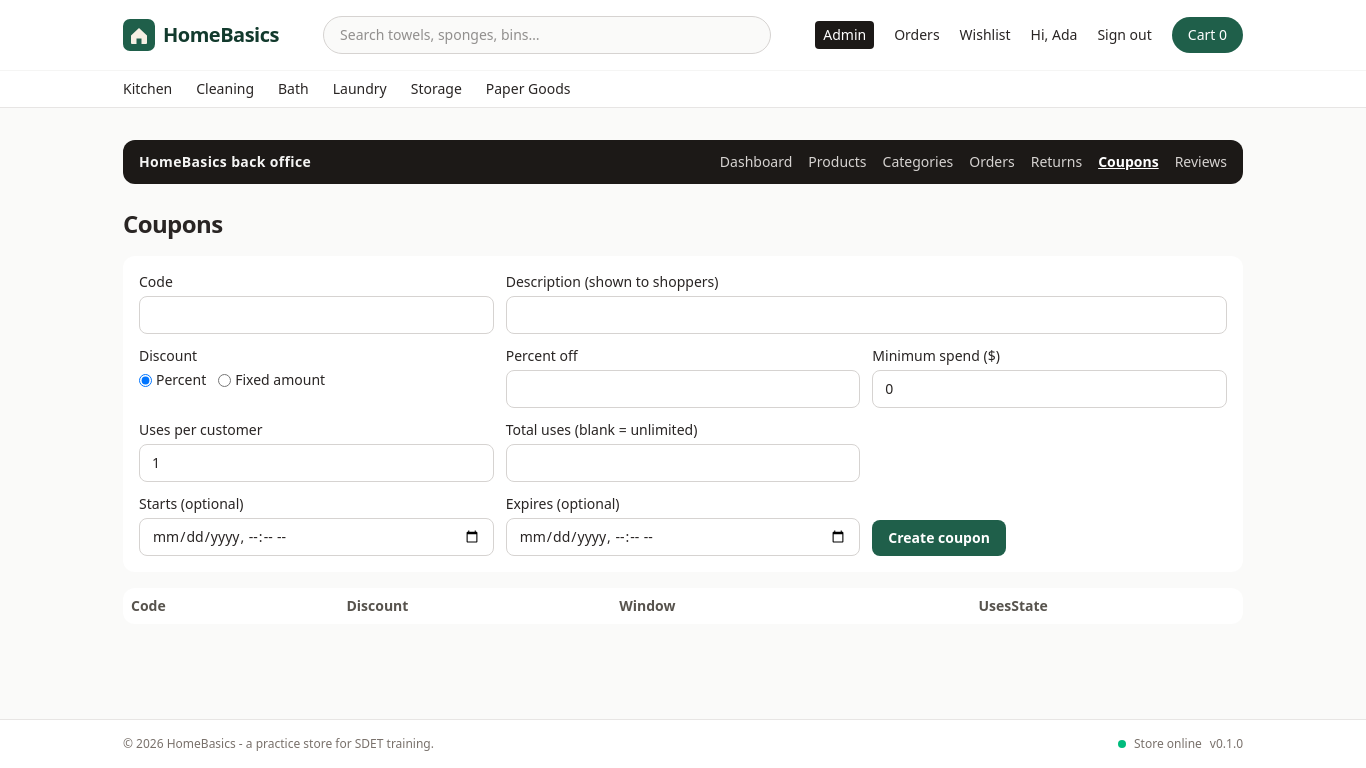
Test case: admin coupons (ADM-05) › creates a fixed coupon: dollars become cents, local times become UTC
Step 1. Type "tenoff" into the field with test id "coupon-code" → (316, 315), box [139,296,494,334]
Step 2. Click the radio button with test id "coupon-kind-fixed" → (225, 380), box [218,374,231,386]
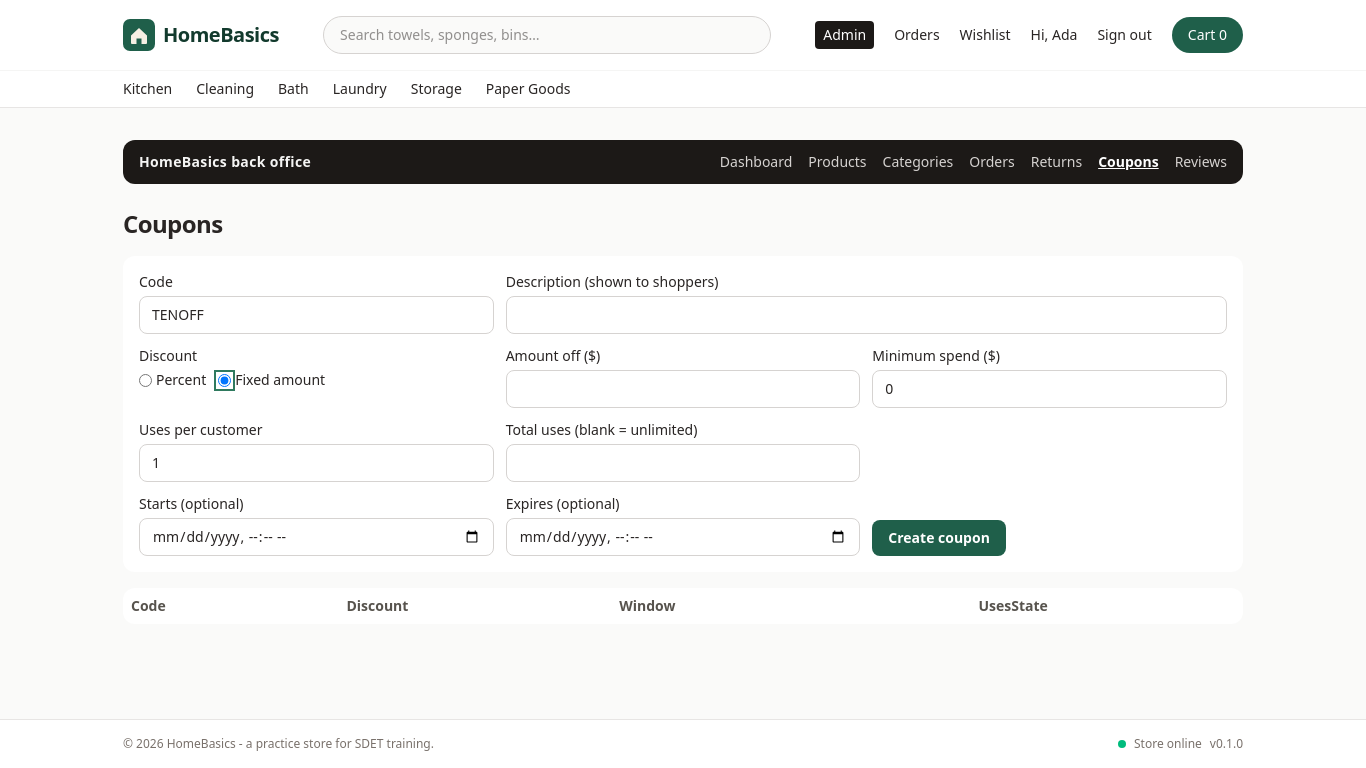
Step 3. Type "10.50" into the number field with test id "coupon-amount" → (683, 389), box [506,370,860,408]
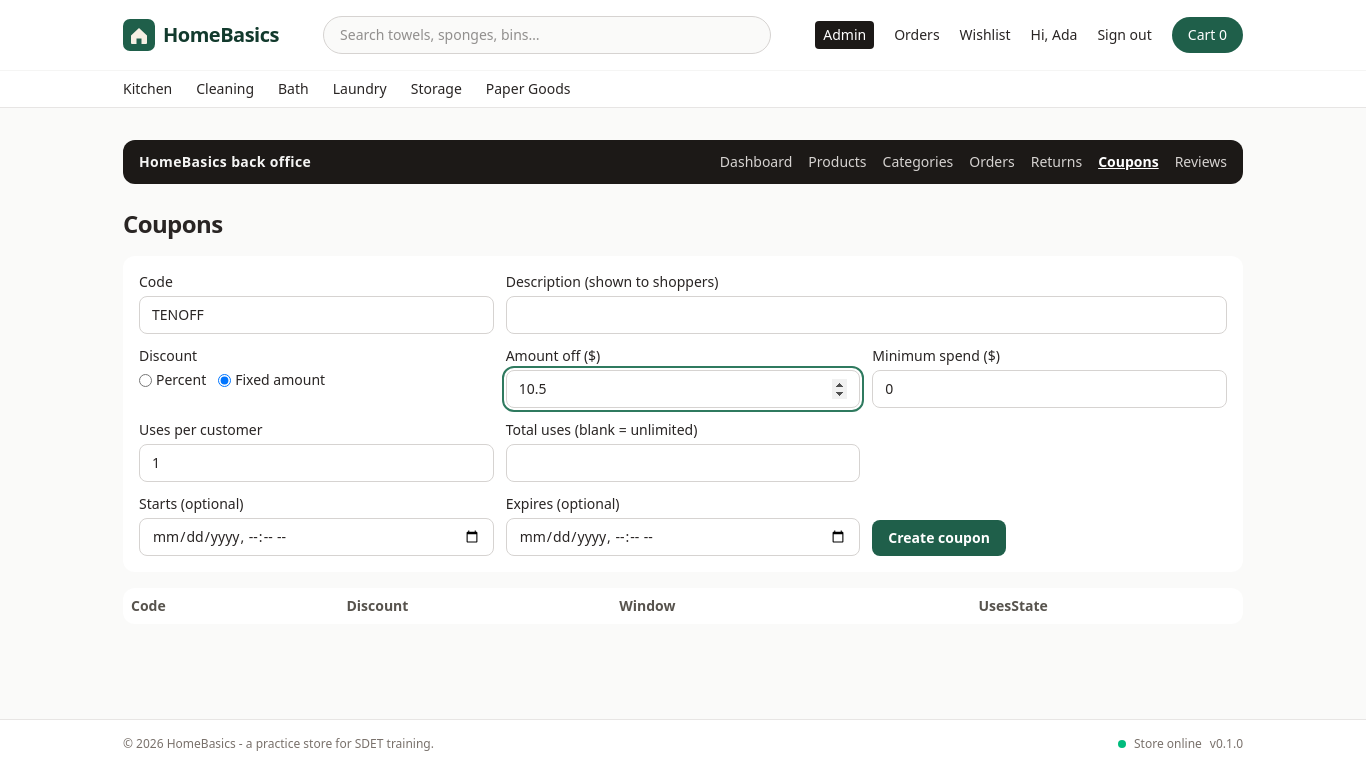
Step 4. Replace the text in the number field with test id "coupon-min" with "40" → (1050, 389), box [872,370,1227,408]
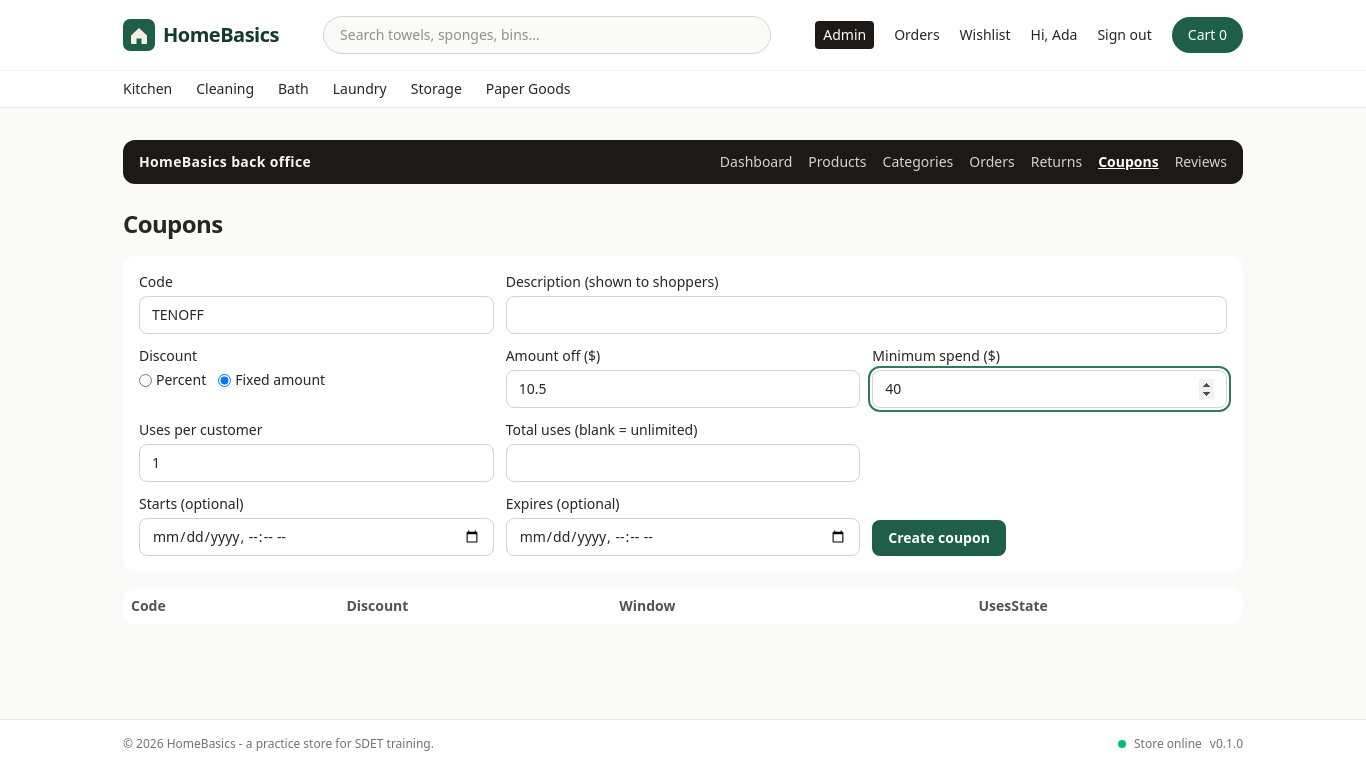
Step 5. Type "200" into the number field with test id "coupon-max" → (683, 463), box [506,444,860,482]
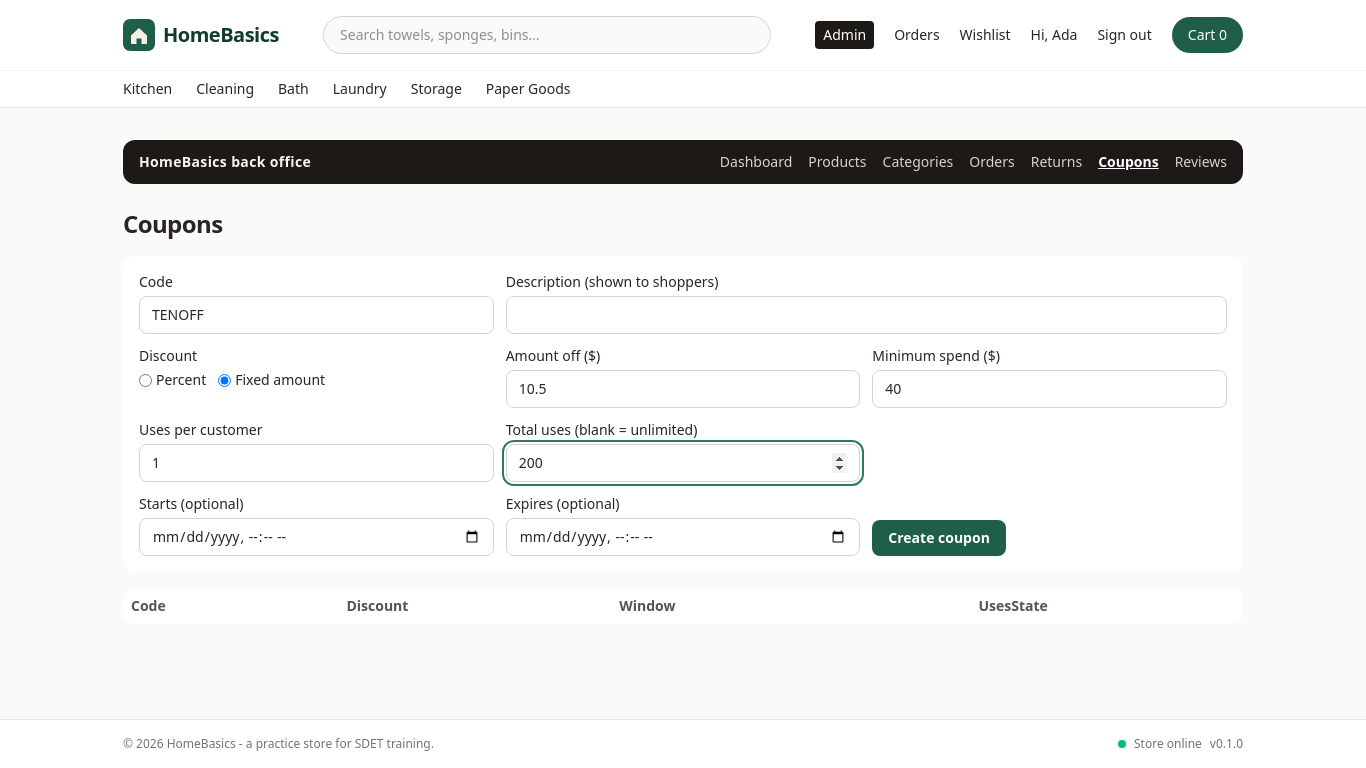
Step 6. Type "2026-12-31T23:59" into the field with test id "coupon-expires" → (683, 537), box [506,518,860,556]
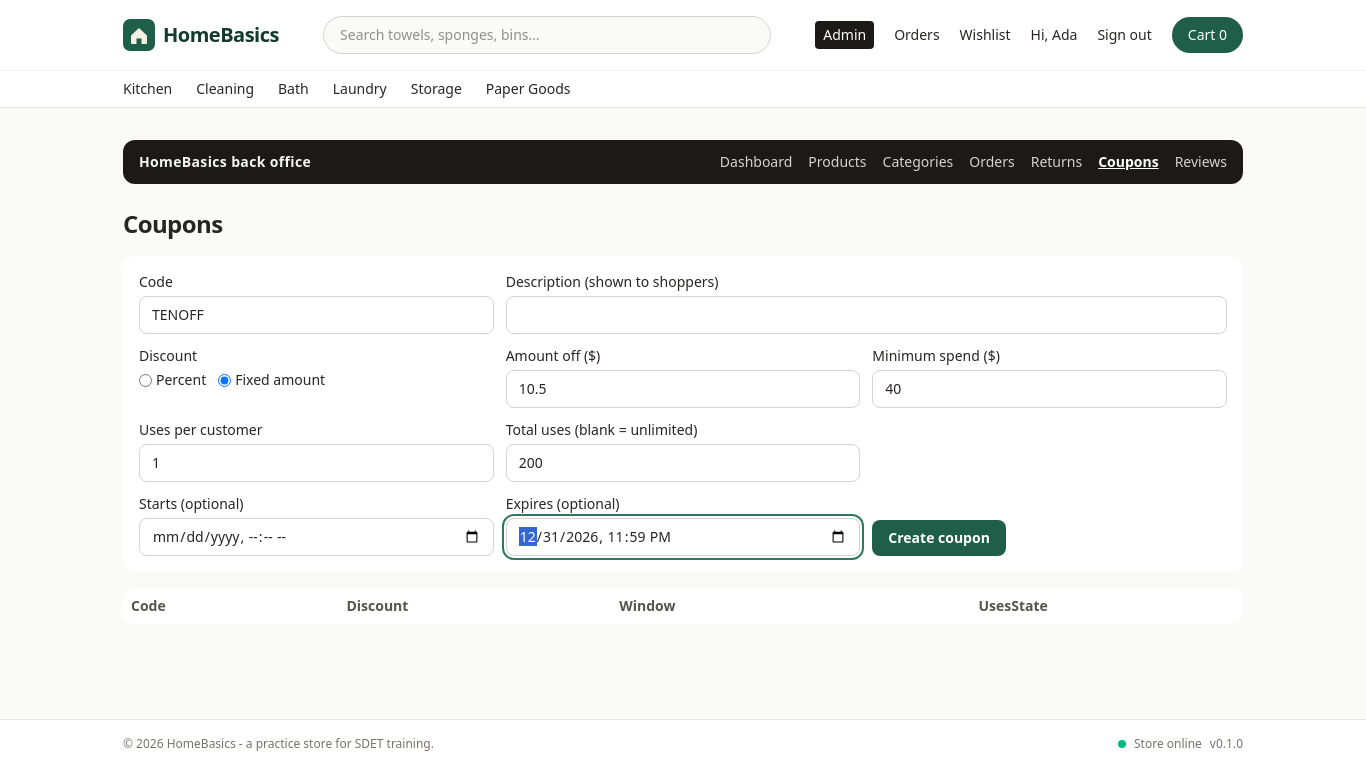
Step 7. Click the button with test id "coupon-create" → (939, 538), box [872,520,1006,556]
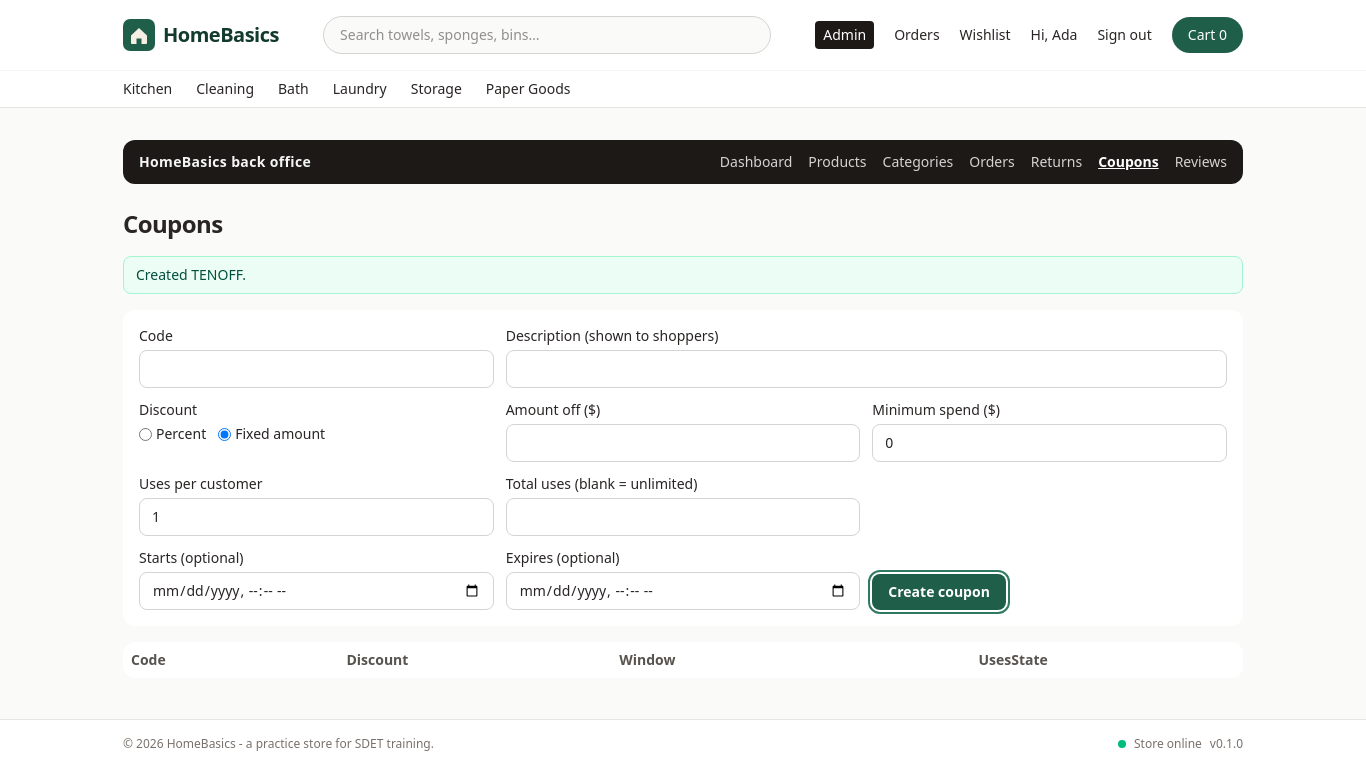
Expected: the message with test id "admin-notice" reads "Created TENOFF.", [136,265,246,284]
